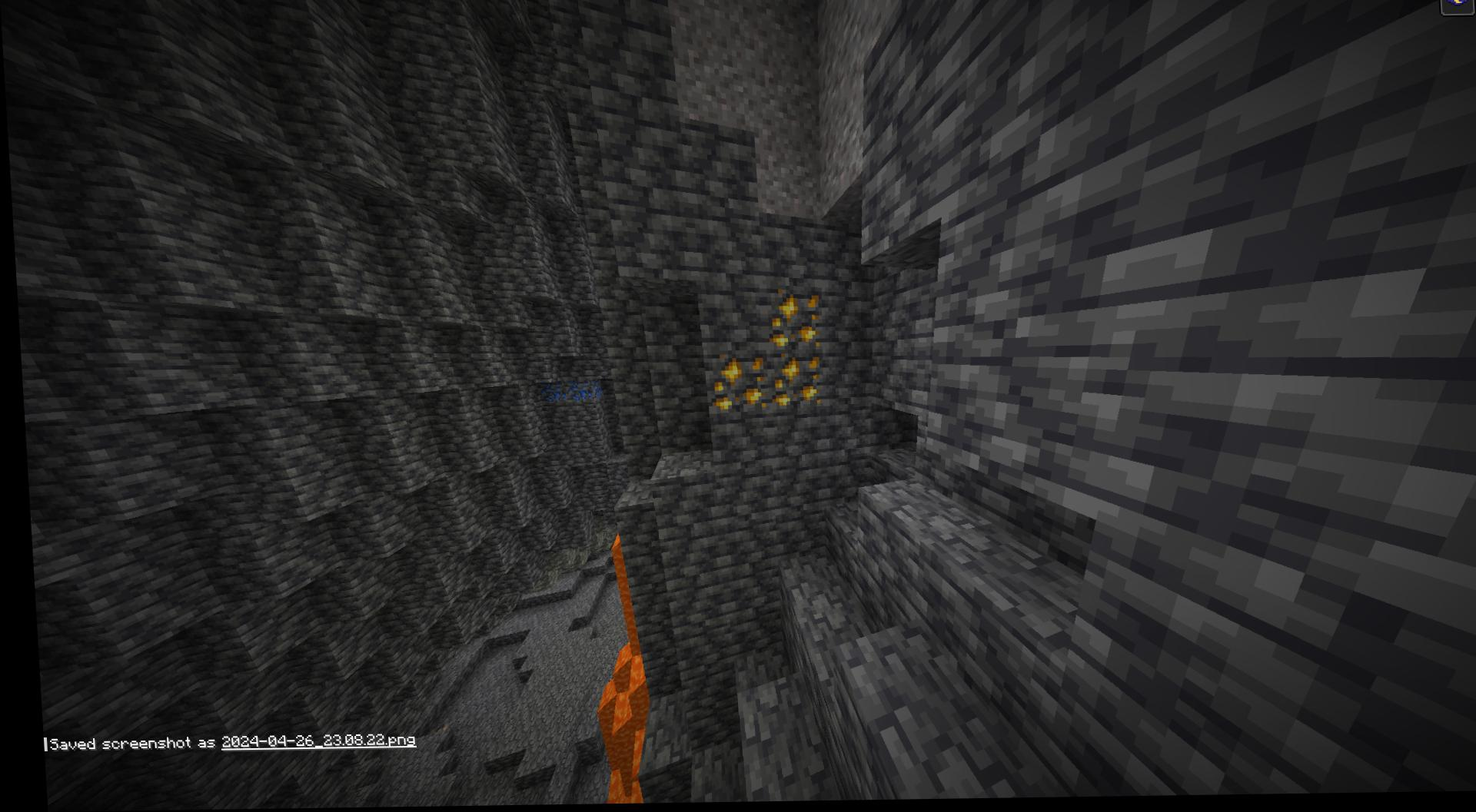gold ore: (699, 351, 765, 411), (764, 288, 820, 353), (764, 355, 819, 411)
